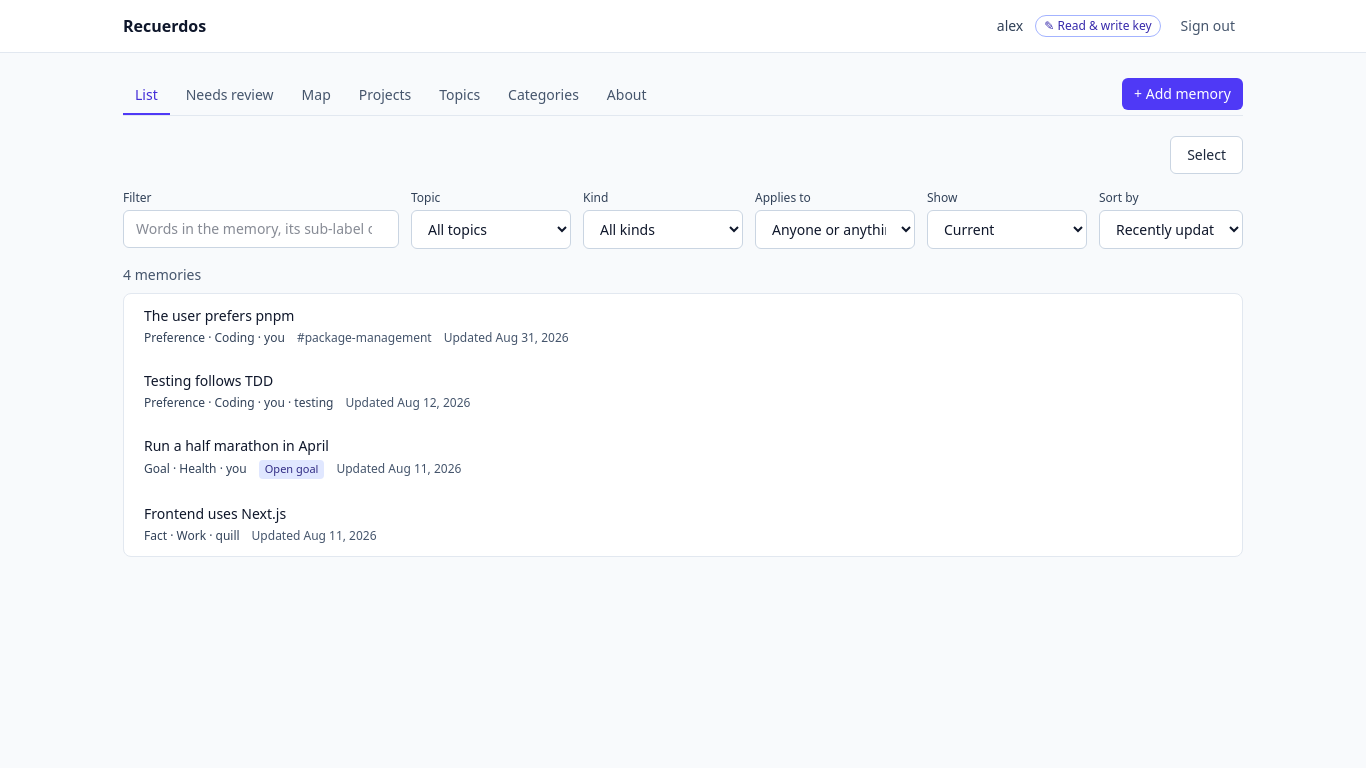
Test case: editing a memory › closes a goal, and says what that means
Expected: the text "The user prefers pnpm" is shown, x1=144 y1=306 x2=294 y2=325
Click the button "Run a half marathon in April" at [236, 446], box x1=128 y1=424 x2=1242 y2=491
(page scrolled)
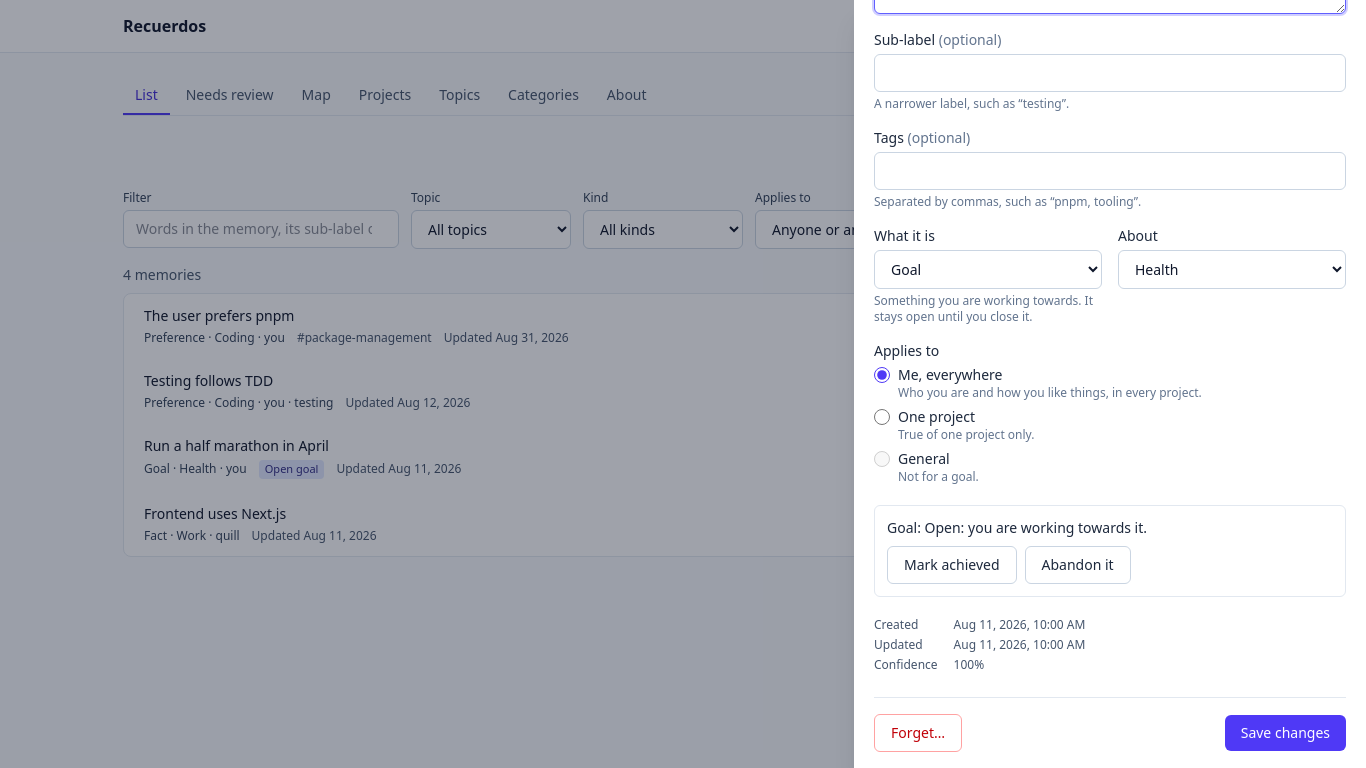
Expected: the text "Goal: Open: you are working towards it." is shown, x1=887 y1=518 x2=1147 y2=537
Click the button "Mark achieved" at [952, 565], box x1=887 y1=546 x2=1016 y2=584
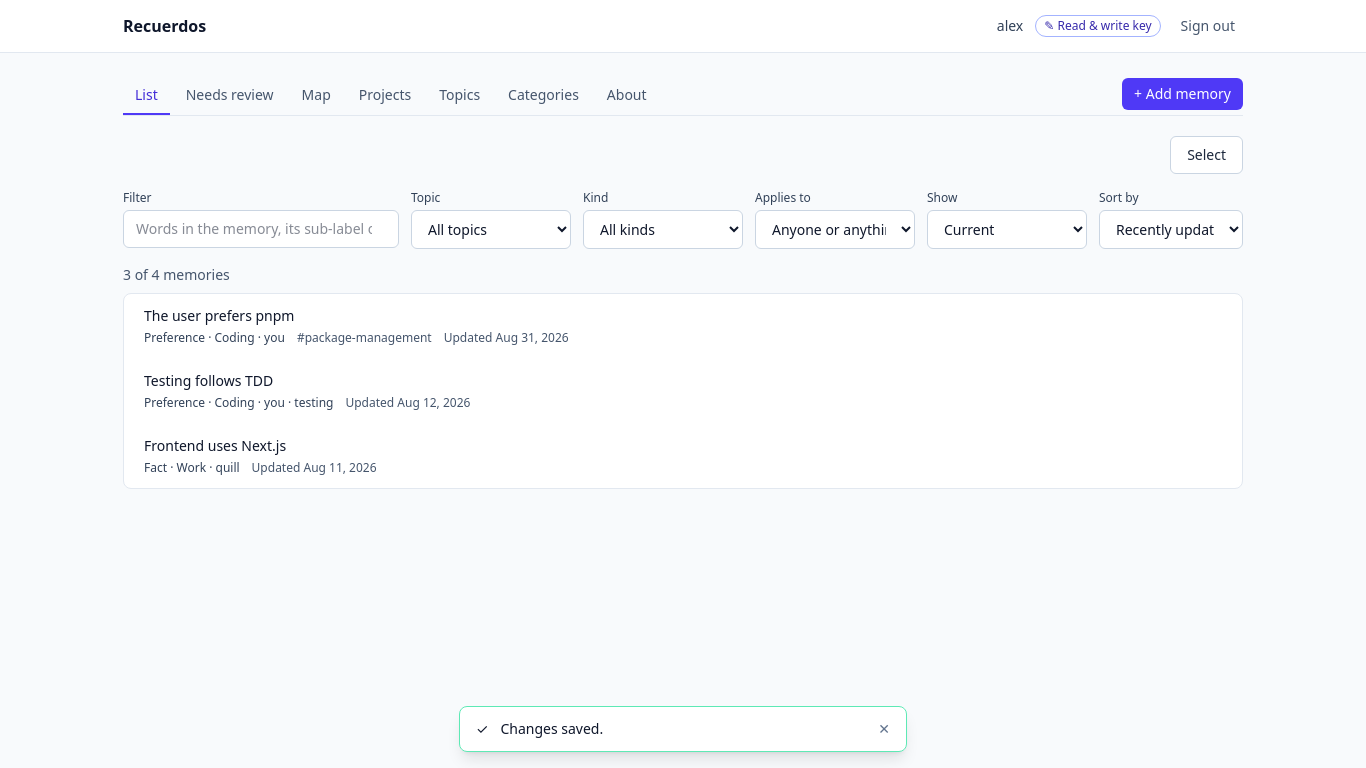
Expected: the text "Changes saved." is shown, x1=500 y1=719 x2=603 y2=738
Expected: the button "Run a half marathon in April" is gone
Select "Closed goals" in the dropdown labelled "Show" at [1007, 230], box x1=927 y1=210 x2=1087 y2=249
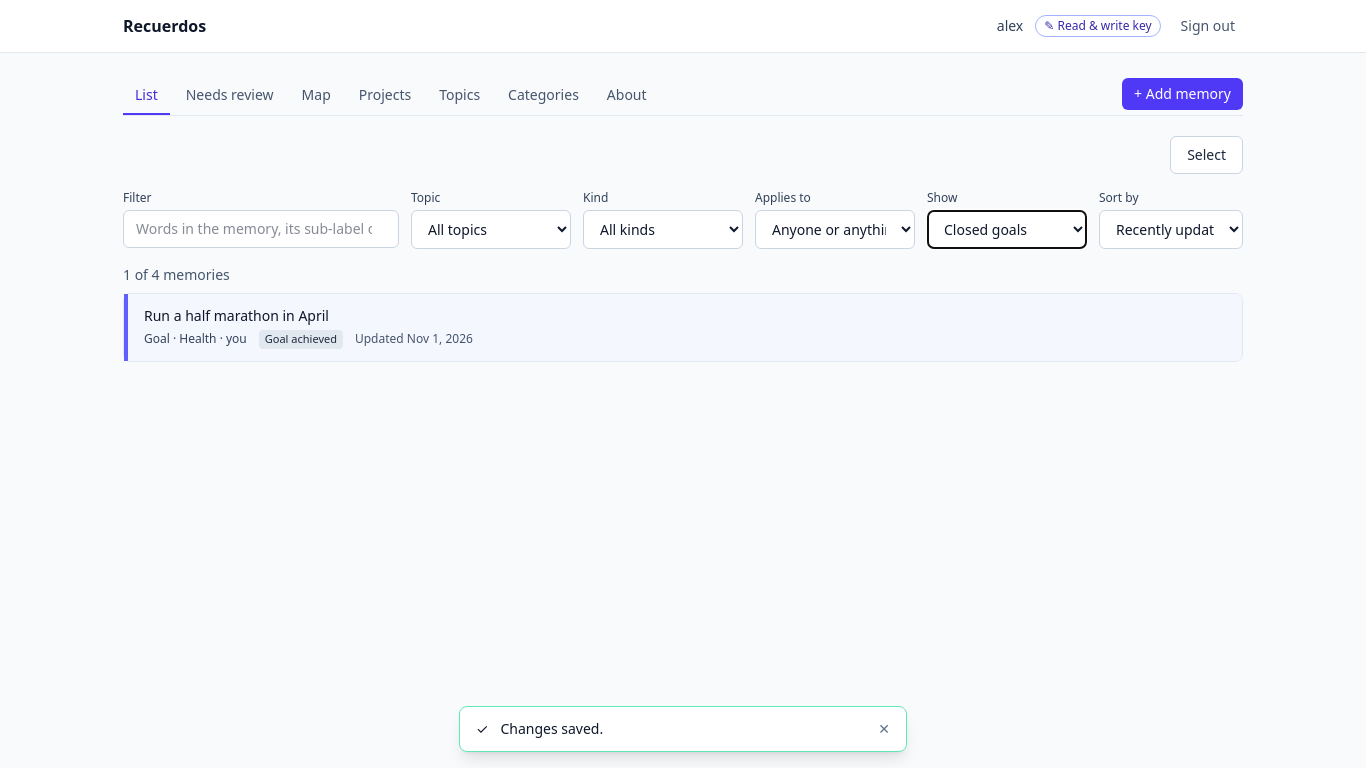
Expected: the text "Run a half marathon in April" is shown, x1=143 y1=305 x2=329 y2=325
